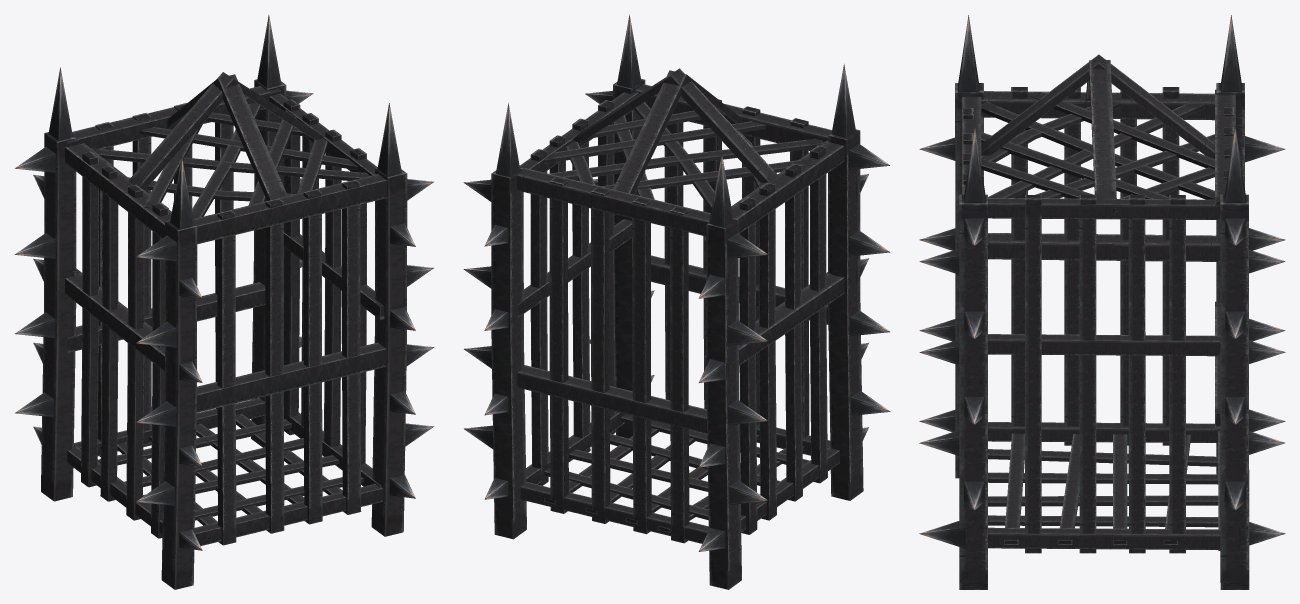
Rendered from 10504_IronRail12.FBX.
3 renders of one model, left to right at view 1: azimuth 30°, elevation 25°; view 2: azimuth 150°, elevation 25°; view 3: azimuth 270°, elevation 25°, orthographic. The views are drawn at different scales.
Parts seen in each view (by area): view 1: 10504_IronRail12; view 2: 10504_IronRail12; view 3: 10504_IronRail12.
Part boxes in pixels (x1,y1,x2,y2): 10504_IronRail12: (14,15,434,589); 10504_IronRail12: (463,14,890,589); 10504_IronRail12: (919,15,1285,589).
Bounding box in the file's own units: 516 × 713 × 502.
